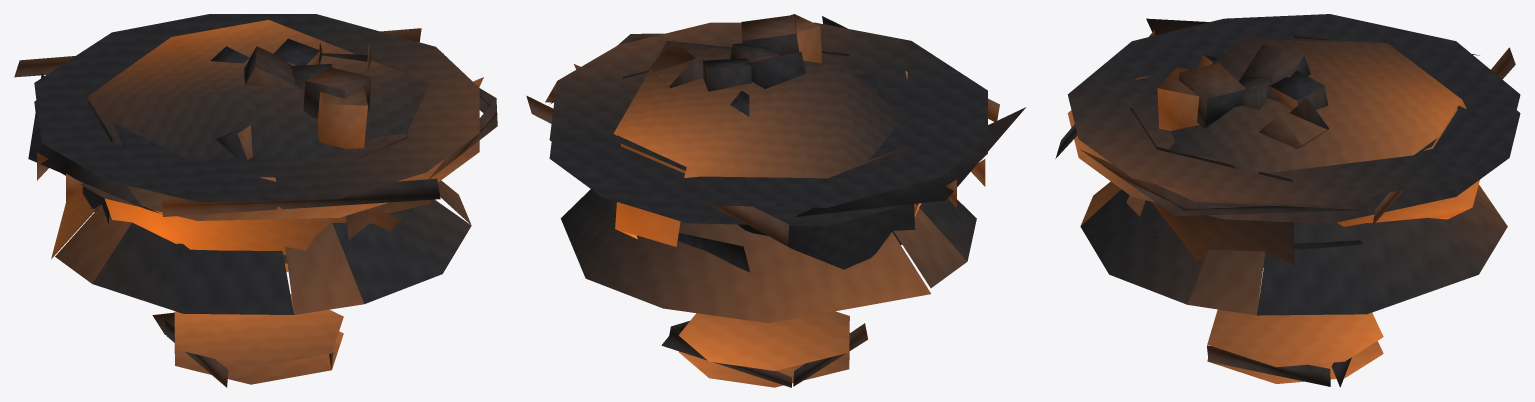
Rendered from Brazier_IronEmbers_LOD2.glb.
3 views of the same model, side by side, from view 1: azimuth 30°, elevation 25°; view 2: azimuth 150°, elevation 25°; view 3: azimuth 270°, elevation 25° (orthographic).
Parts seen in each view (by area): view 1: Brazier_IronEmbers_LOD2; view 2: Brazier_IronEmbers_LOD2; view 3: Brazier_IronEmbers_LOD2.
Boxes of the visible parts, x1,y1,x2,y2 form: Brazier_IronEmbers_LOD2: (14, 14, 497, 387); Brazier_IronEmbers_LOD2: (526, 14, 1025, 387); Brazier_IronEmbers_LOD2: (1055, 14, 1520, 387).
Bounding box in the file's own units: 1.17 × 0.7877 × 1.13.
1 material, 1 textured.
